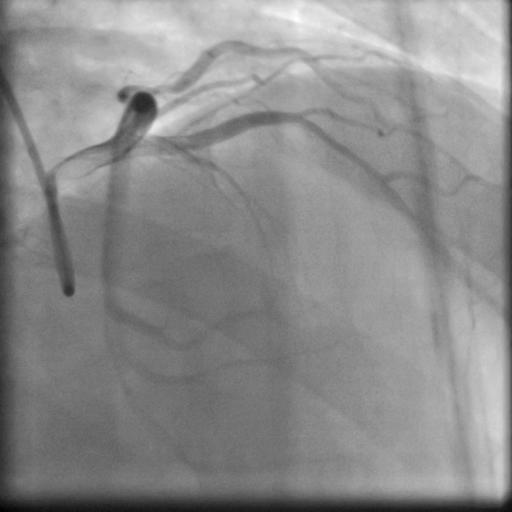Stenosis: (150, 69, 193, 97)
